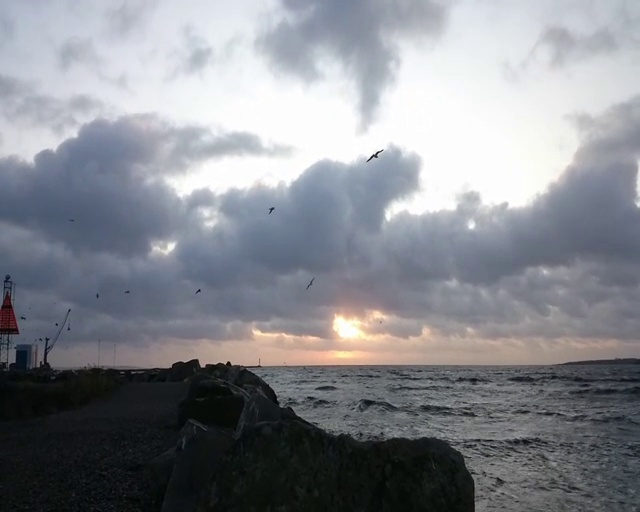BIRD: (365, 143, 390, 163)
